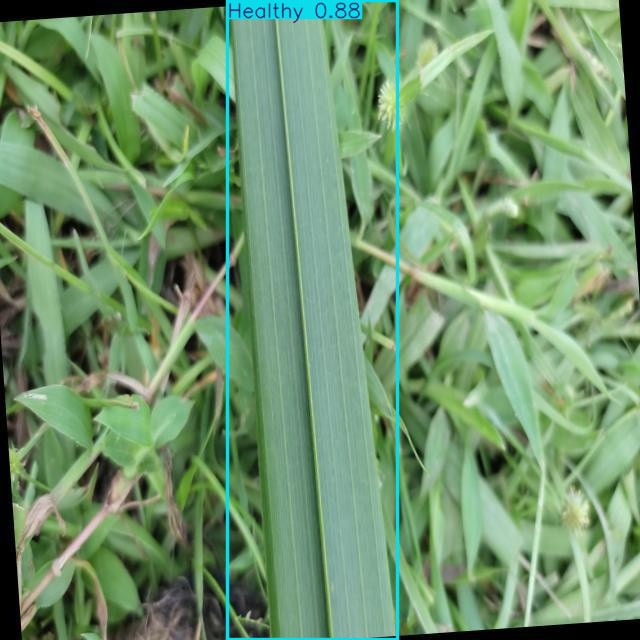Healthy: (227, 0, 397, 640)
